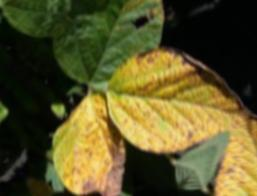Tomato Septoria leaf spot: (87, 15, 257, 185), (40, 0, 199, 112), (26, 84, 162, 196)
